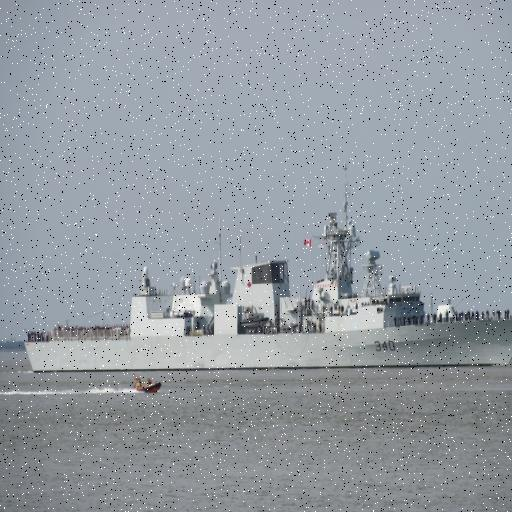Fragata: (23, 153, 512, 377)
